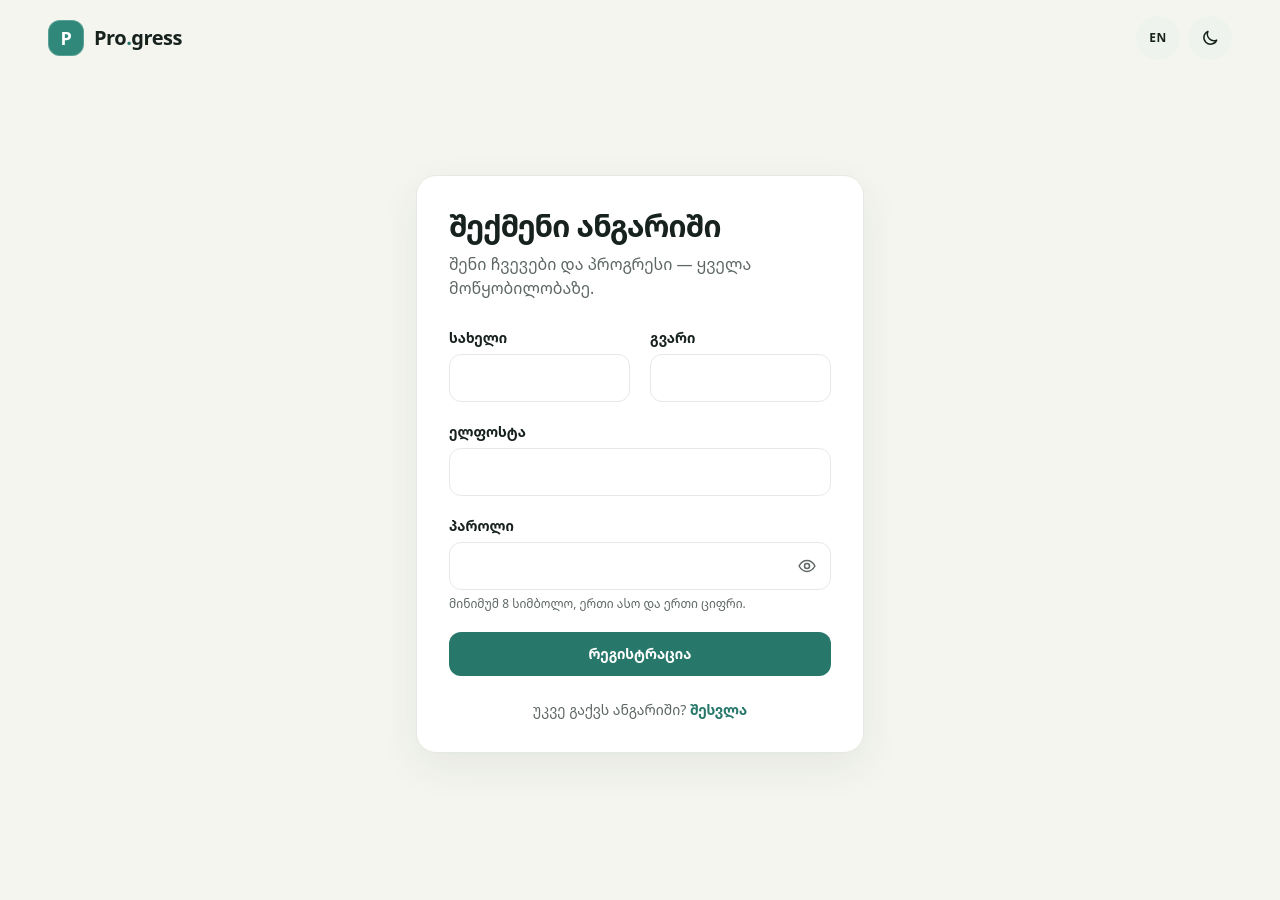
Test: registration (US-1) › explains invalid fields in the current language
Expected: the heading "შექმენი ანგარიში" is shown, top-left (449, 205), bottom-right (721, 246)
In the field labelled "ელფოსტა": [640, 472] box top-left (449, 448), bottom-right (831, 496), type "not-an-email"
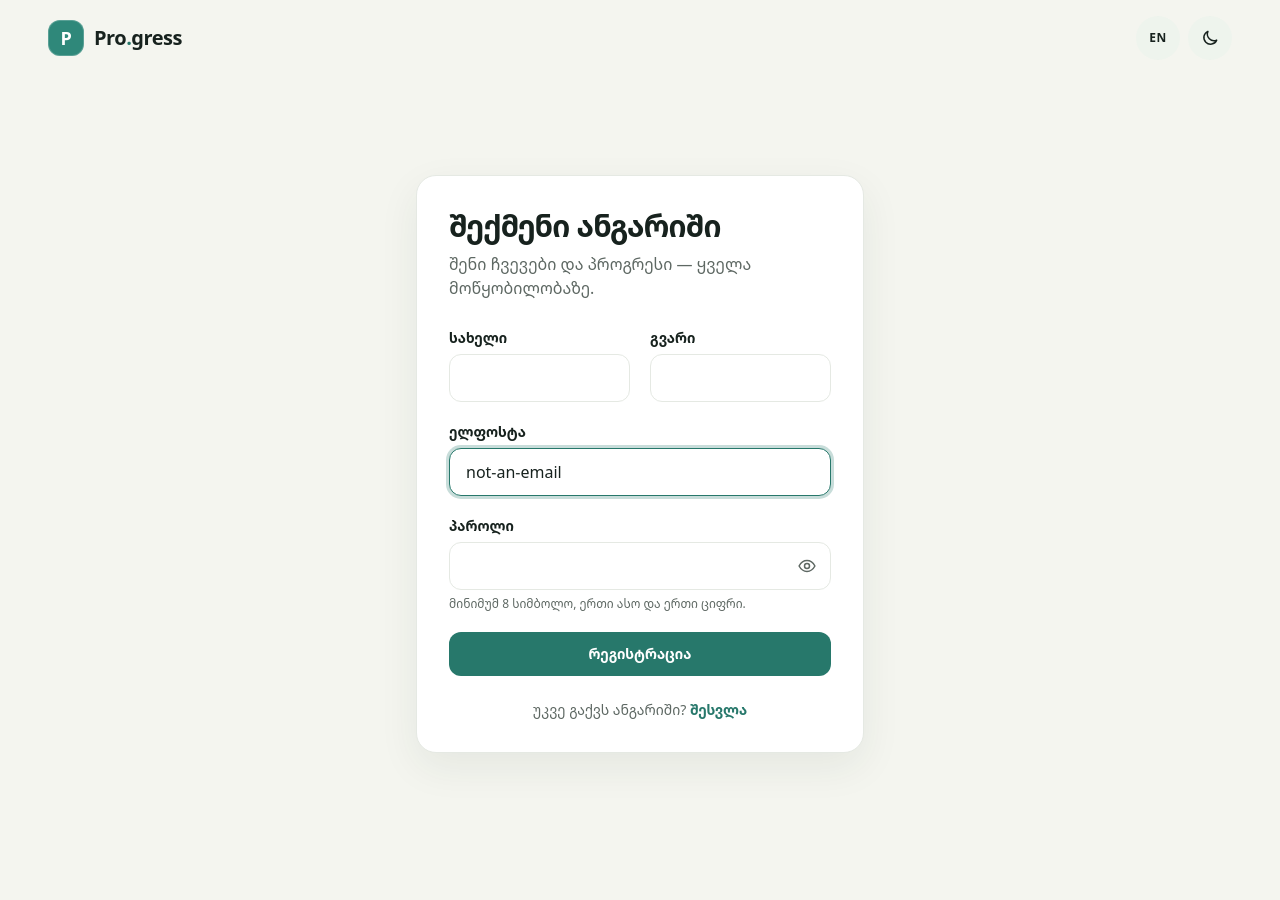
Clear the password field labelled "პაროლი": [640, 566] box top-left (449, 542), bottom-right (831, 590)
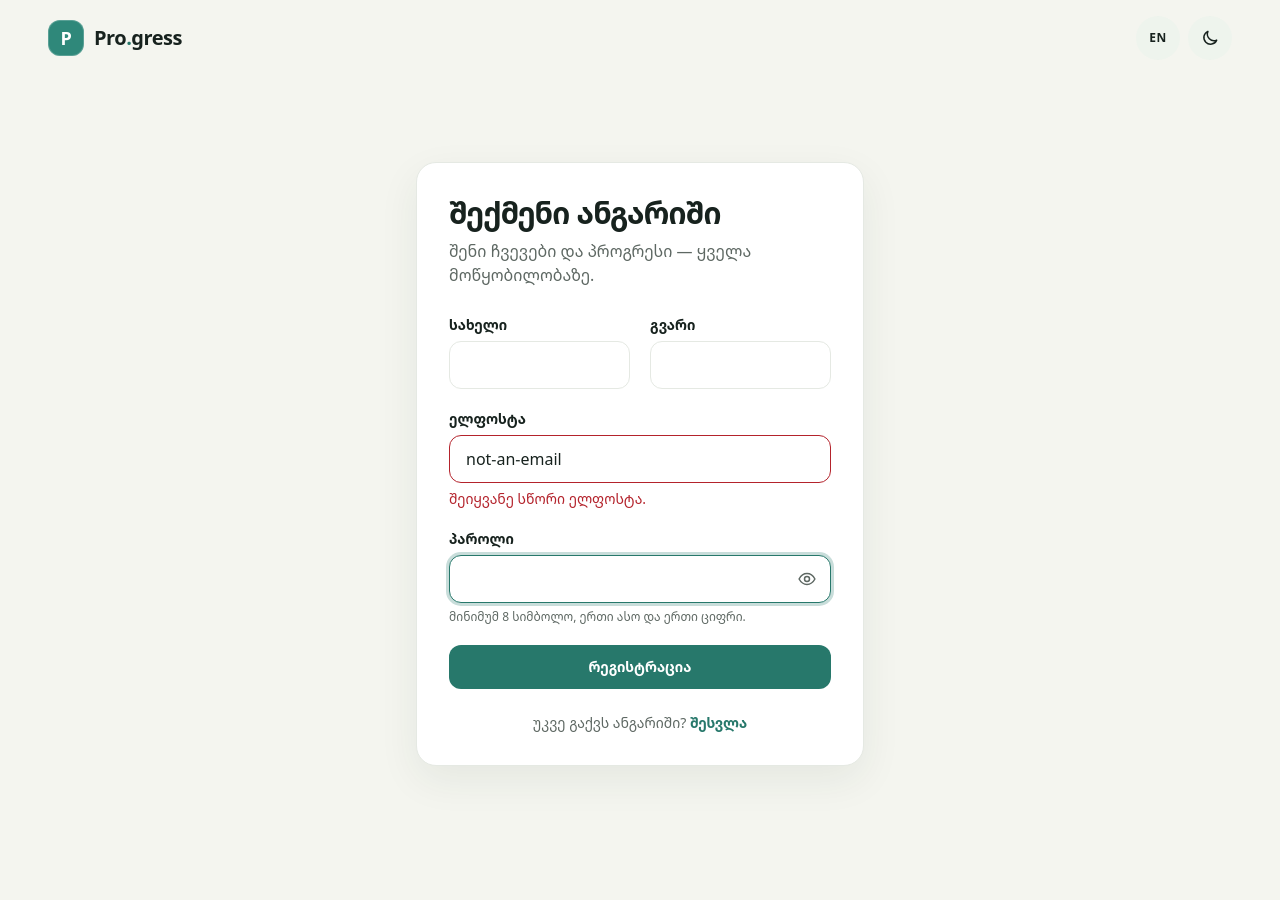
In the password field labelled "პაროლი": [640, 579] box top-left (449, 555), bottom-right (831, 603), type "abcdefgh"
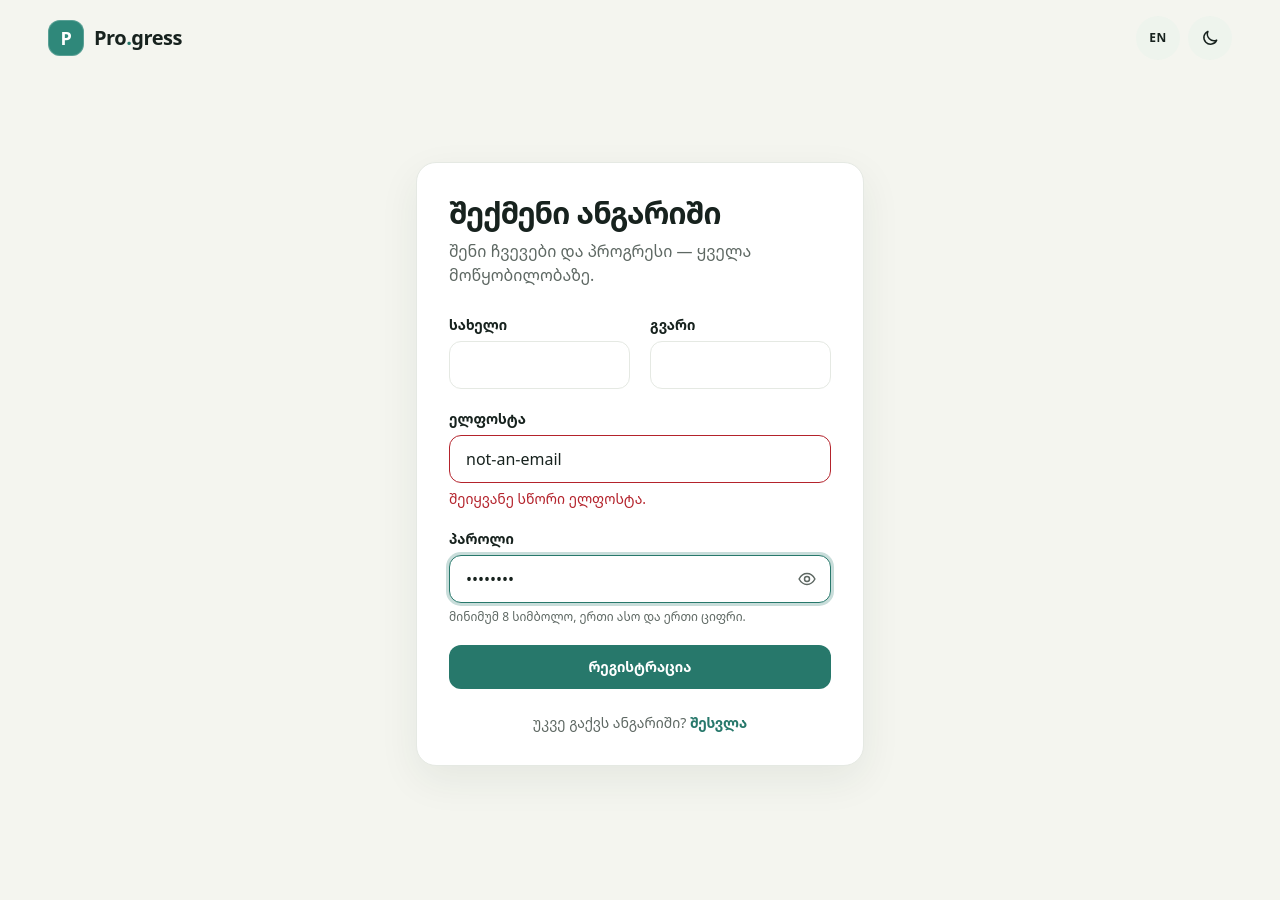
Click the button "რეგისტრაცია": [640, 667] box top-left (449, 645), bottom-right (831, 689)
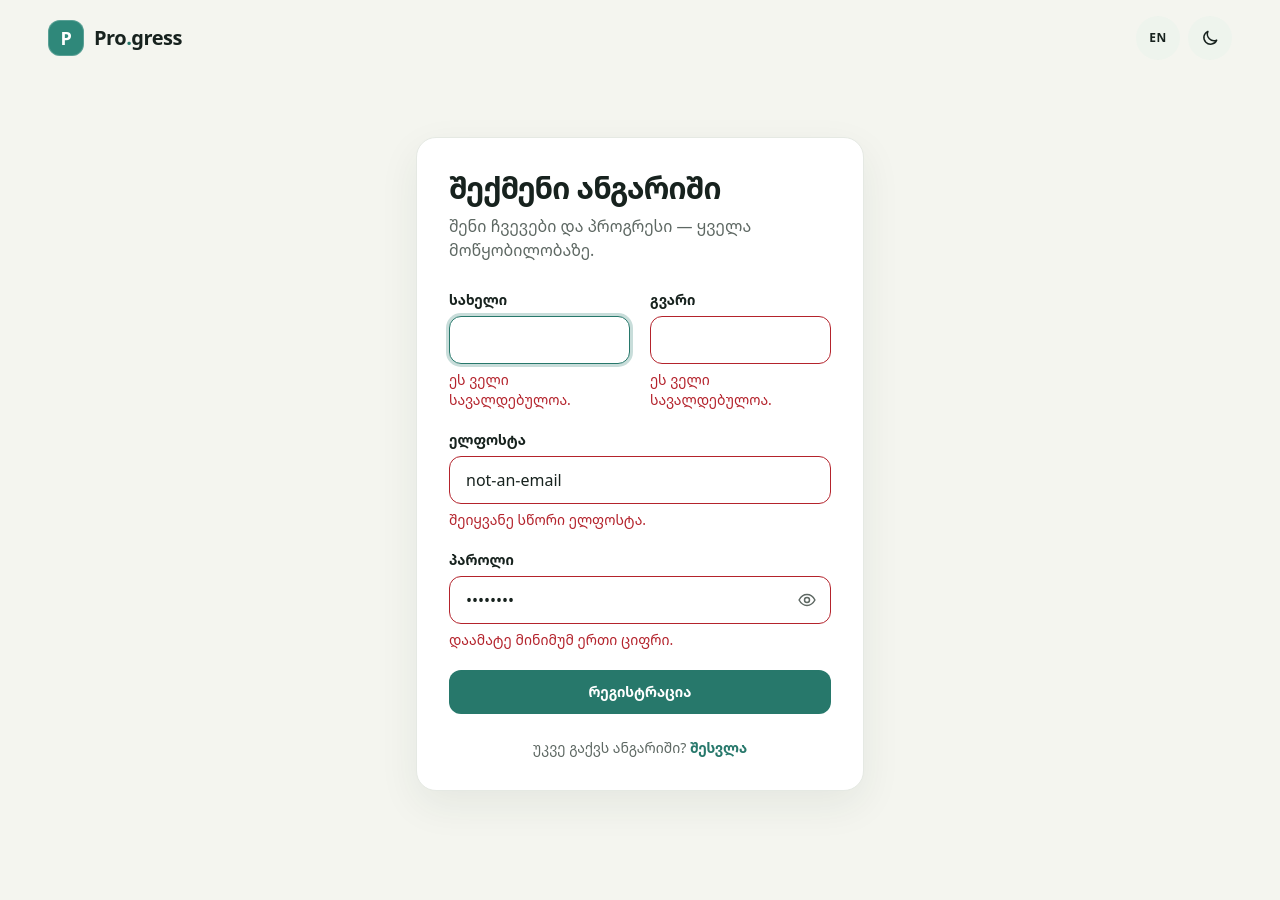
Result: the text "შეიყვანე სწორი ელფოსტა." is shown at top-left (449, 510), bottom-right (646, 529)
Result: the text "დაამატე მინიმუმ ერთი ციფრი." is shown at top-left (449, 630), bottom-right (673, 649)
Result: the text "ეს ველი სავალდებულოა." is shown 2 times at top-left (449, 370), bottom-right (571, 409); top-left (650, 370), bottom-right (772, 409)
